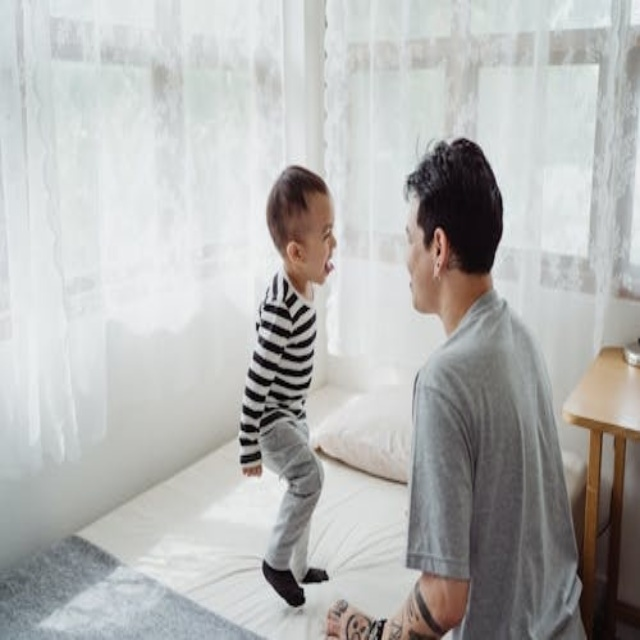Sin_gafas: (308, 215, 340, 250), (401, 221, 426, 256)
Sin_mascara: (401, 261, 433, 313), (314, 252, 335, 286)
